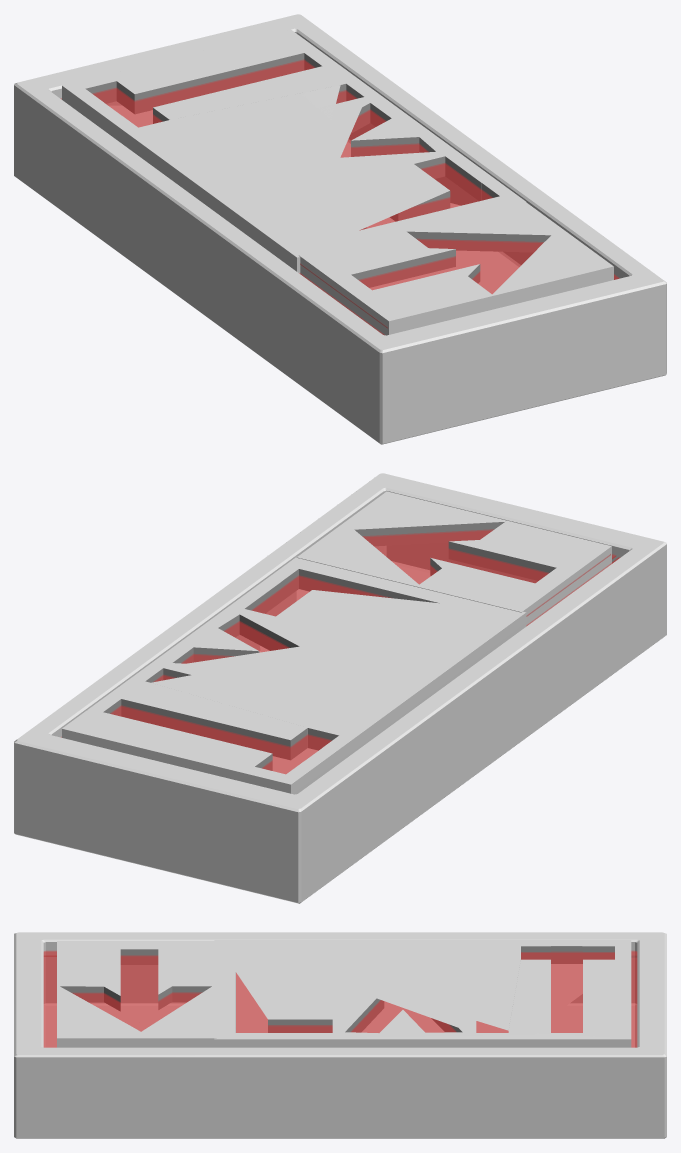
Rendered from ExitD.fbx.
3 views of the same model, one above another, from view 1: azimuth 30°, elevation 25°; view 2: azimuth 150°, elevation 25°; view 3: azimuth 270°, elevation 25° (orthographic). The views are drawn at different scales.
Parts seen in each view (by area): view 1: polySurface57; view 2: polySurface57; view 3: polySurface57.
Part boxes in pixels (<box>): polySurface57: <box>14,14,666,444</box>; polySurface57: <box>14,473,666,903</box>; polySurface57: <box>14,932,666,1138</box>.
Bounding box in the file's own units: 4.15 × 1.37 × 9.2.
